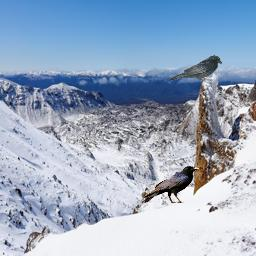Crow: (142, 165, 199, 203), (169, 55, 222, 81)
